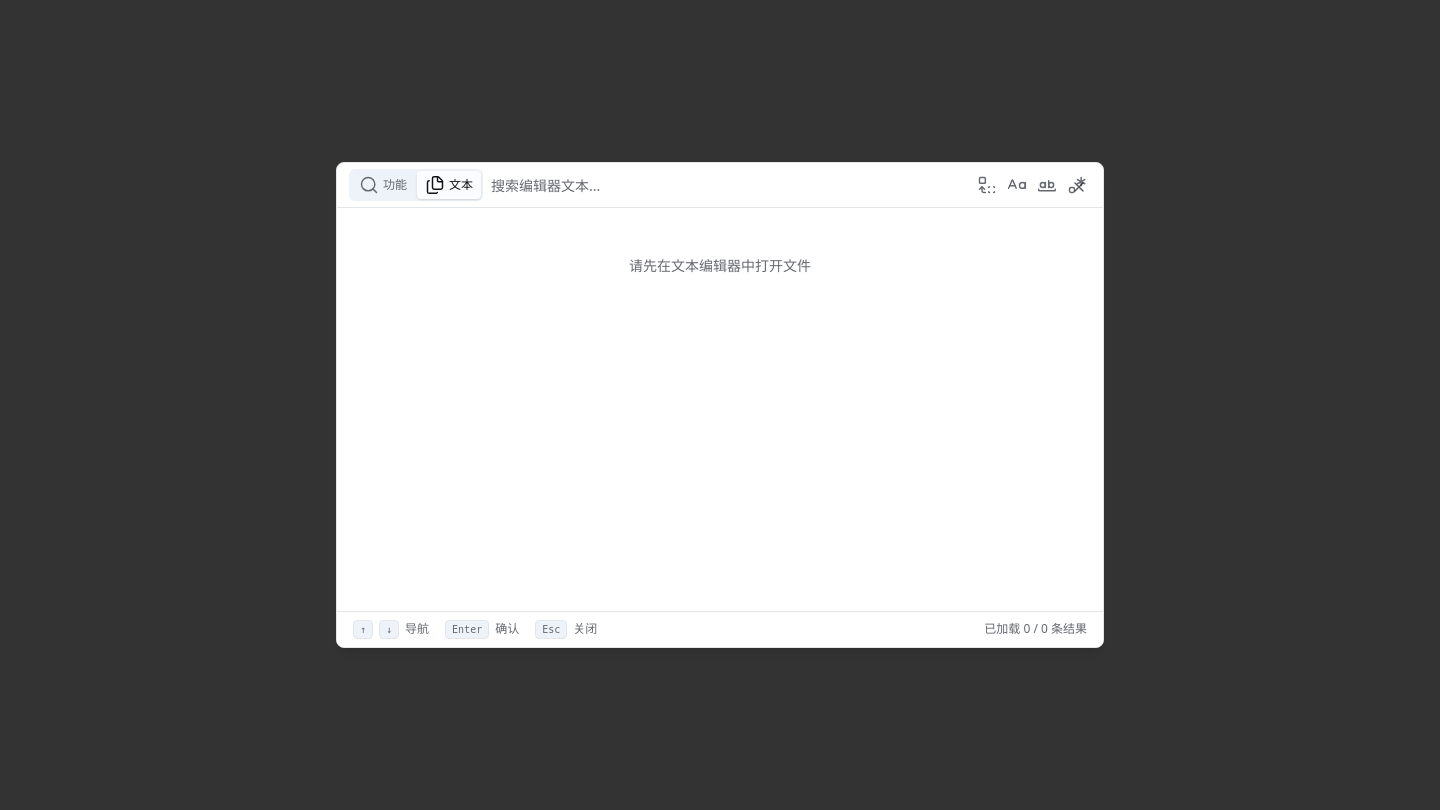
Test: SearchDialog › 无匹配时展示空态提示
This screenshot has width=1440, height=810.
Click the button "功能": (383, 185) x1=351 y1=171 x2=415 y2=199
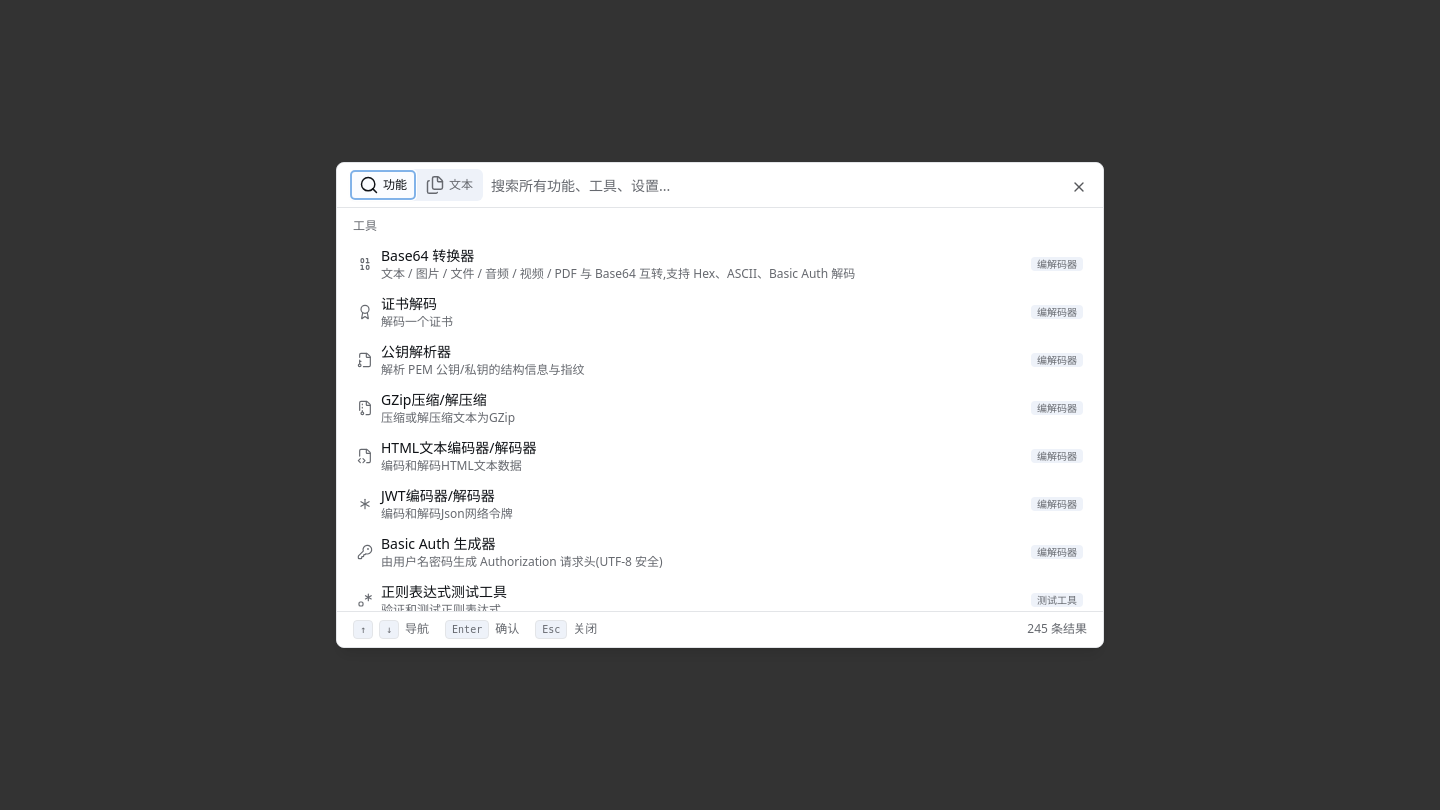
In the dropdown with placeholder "搜索所有功能、工具、设置...": (791, 185) x1=491 y1=163 x2=1091 y2=207, type "不存在的关键字zzzz"
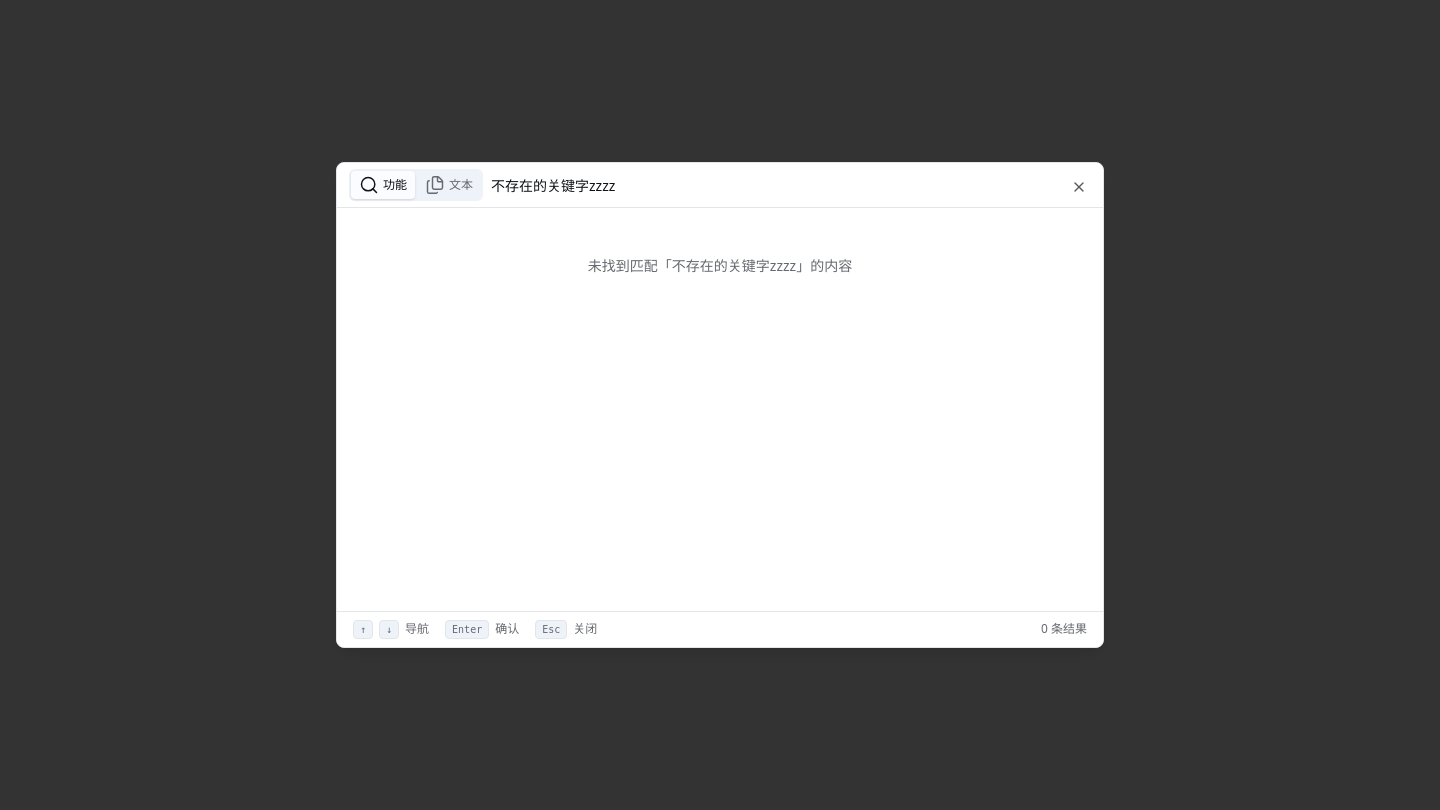
Check: the text "未找到匹配「不存在的关键字zzzz」的内容" is shown, box x1=588 y1=256 x2=852 y2=275
